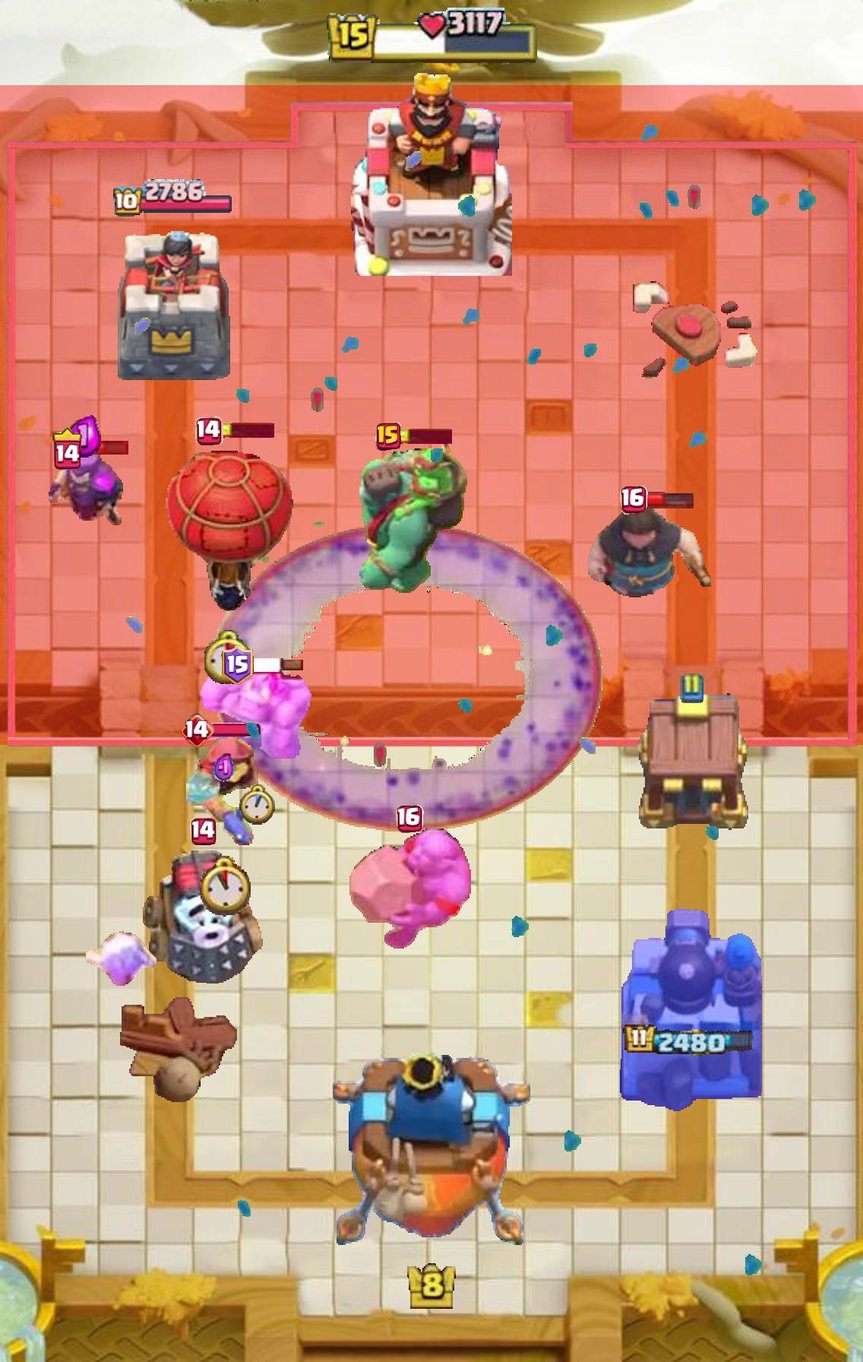elixir: (66, 415, 101, 458), (213, 752, 235, 784)
ice-spirit-evolution: (81, 930, 156, 988)
